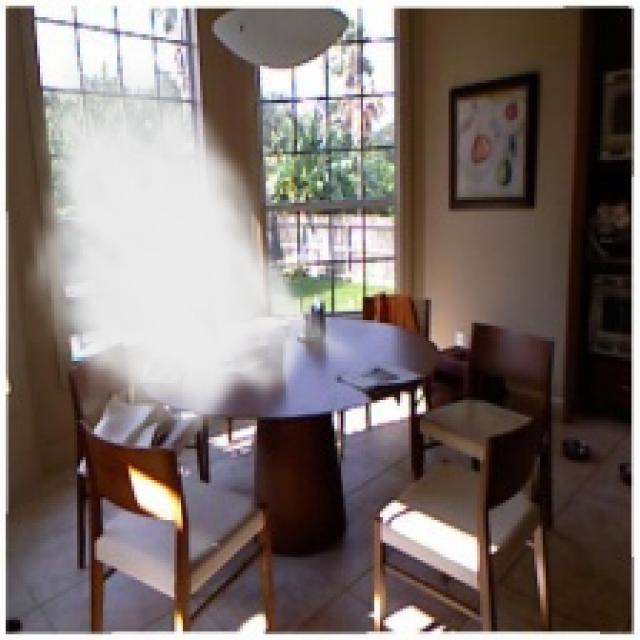smoke: (23, 40, 368, 446)
